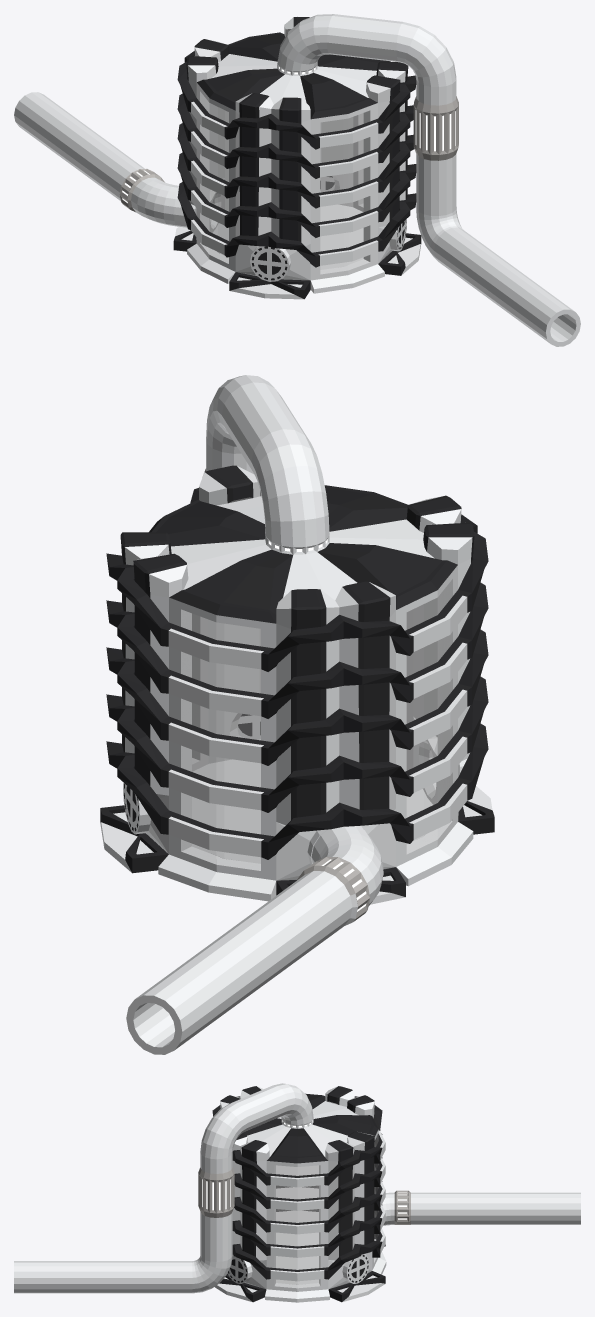
File: oil_storage_medium_tank.glb
3 renders of one model, top to bottom at view 1: azimuth 30°, elevation 25°; view 2: azimuth 150°, elevation 25°; view 3: azimuth 270°, elevation 25°, orthographic. The views are drawn at different scales.
Parts seen in each view (by area): view 1: OilStorageMediumTank_Body, OilStorageMediumTank_Armor, OilStorageMediumTank_UpperPipe, OilStorageMediumTank_Glass, OilStorageMediumTank_Inside, SmallPlatePipeUpUpAccelerator.002, SmallPlatePipeForward.008, SmallPlatePipeUp.002, OilStorageMediumTank_LowerPipe, SmallPlatePipeForward.005, SmallPlatePipeForward.006, SmallPlatePipeForward.007 (+2 smaller); view 2: OilStorageMediumTank_Body, OilStorageMediumTank_Armor, OilStorageMediumTank_Glass, OilStorageMediumTank_UpperPipe, OilStorageMediumTank_Inside, SmallPlatePipeForward.006, SmallPlatePipeForward.005, OilStorageMediumTank_LowerPipe; view 3: OilStorageMediumTank_Body, OilStorageMediumTank_Armor, OilStorageMediumTank_UpperPipe, OilStorageMediumTank_Glass, SmallPlatePipeForward.005, SmallPlatePipeForward.006, SmallPlatePipeForward.007, SmallPlatePipeForward.008, SmallPlatePipeUpUpAccelerator.002, SmallPlatePipeUp.002, OilStorageMediumTank_Inside, OilStorageMediumTank_LowerPipe (+2 smaller).
Boxes of the visible parts, x1,y1,x2,y2 form: OilStorageMediumTank_Body: [173, 17, 421, 299]; OilStorageMediumTank_Armor: [177, 51, 416, 267]; OilStorageMediumTank_UpperPipe: [277, 14, 456, 86]; OilStorageMediumTank_Glass: [200, 92, 369, 273]; OilStorageMediumTank_Inside: [209, 54, 376, 269]; SmallPlatePipeUpUpAccelerator.002: [413, 80, 458, 179]; SmallPlatePipeForward.008: [495, 272, 580, 346]; SmallPlatePipeUp.002: [416, 172, 472, 269]; OilStorageMediumTank_LowerPipe: [115, 166, 187, 227]; SmallPlatePipeForward.005: [65, 129, 144, 200]; SmallPlatePipeForward.006: [14, 92, 92, 163]; SmallPlatePipeForward.007: [444, 235, 523, 306]; OilStorageMediumTank_Body: [100, 465, 494, 904]; OilStorageMediumTank_Armor: [106, 488, 488, 859]; OilStorageMediumTank_Glass: [181, 579, 452, 870]; OilStorageMediumTank_UpperPipe: [206, 375, 329, 547]; OilStorageMediumTank_Inside: [171, 496, 437, 863]; SmallPlatePipeForward.006: [126, 936, 263, 1054]; SmallPlatePipeForward.005: [216, 877, 344, 990]; OilStorageMediumTank_LowerPipe: [297, 826, 383, 931]; OilStorageMediumTank_Body: [215, 1086, 386, 1302]; OilStorageMediumTank_Armor: [212, 1096, 385, 1281]; OilStorageMediumTank_UpperPipe: [200, 1083, 313, 1159]; OilStorageMediumTank_Glass: [274, 1133, 378, 1287]; SmallPlatePipeForward.005: [419, 1192, 499, 1224]; SmallPlatePipeForward.006: [500, 1192, 580, 1224]; SmallPlatePipeForward.007: [95, 1261, 175, 1293]; SmallPlatePipeForward.008: [14, 1261, 94, 1293]; SmallPlatePipeUpUpAccelerator.002: [198, 1153, 234, 1232]; SmallPlatePipeUp.002: [176, 1226, 232, 1293]; OilStorageMediumTank_Inside: [247, 1101, 358, 1284]; OilStorageMediumTank_LowerPipe: [382, 1190, 418, 1225].
Bounding box in the file's own units: 2451 × 2554 × 7000.
2 materials, 1 textured.
